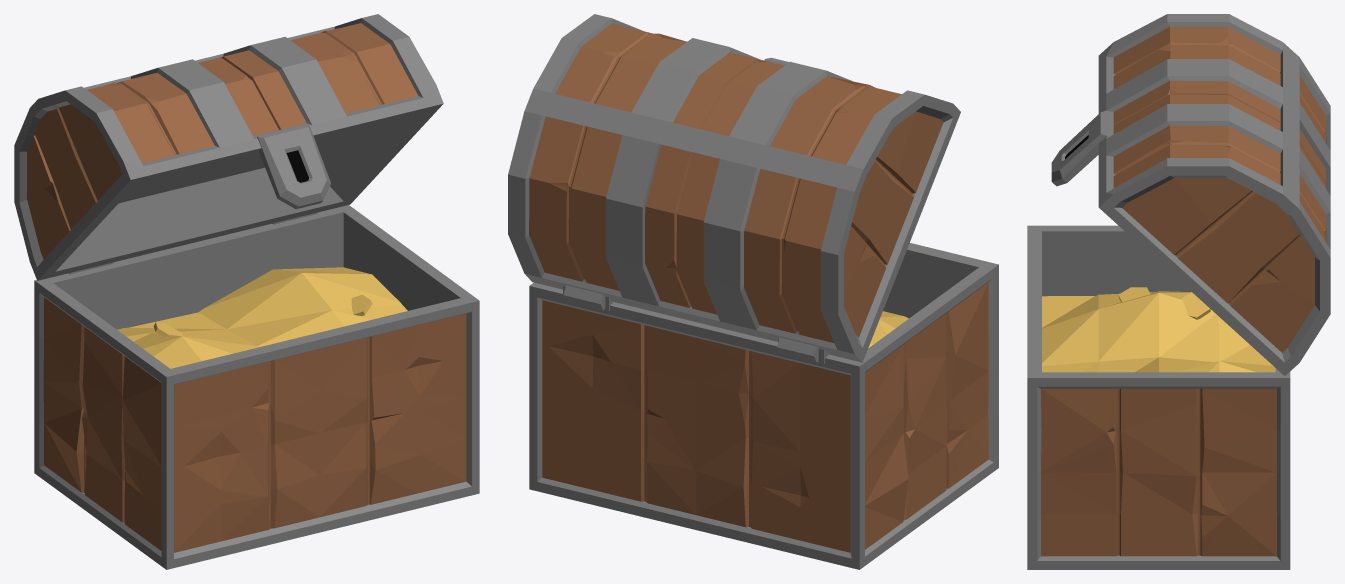
File: ChestOpen.fbx
The picture shows the model from 3 angles, left to right: view 1: azimuth 30°, elevation 25°; view 2: azimuth 150°, elevation 25°; view 3: azimuth 270°, elevation 25°; orthographic projection. The views are drawn at different scales.
Visible parts, largest first — view 1: ChestOpen; view 2: ChestOpen; view 3: ChestOpen.
Part boxes in pixels (x1,y1,x2,y2): ChestOpen: [14, 14, 479, 569]; ChestOpen: [508, 14, 998, 569]; ChestOpen: [1027, 14, 1330, 569].
Size of the model in its own units: 179 by 220 by 150.
